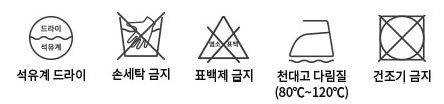KR_hand_wash_30_neutral: (23, 9, 76, 64)
KR_no_chlorine_bleach: (196, 12, 251, 63)
KR_no_tumble_dry: (374, 9, 430, 65)
